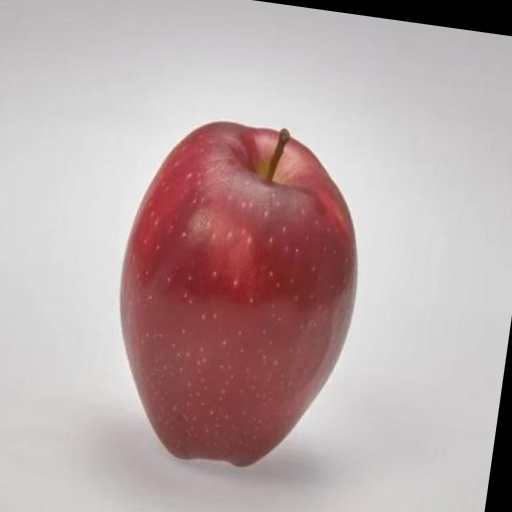fruit: (120, 123, 356, 466)
